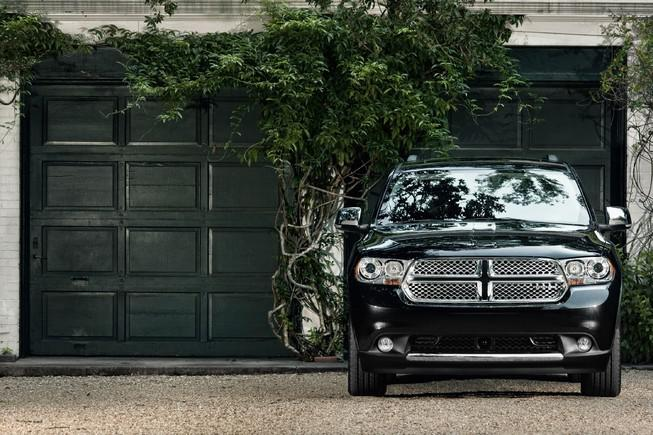Car: (312, 137, 641, 417)
